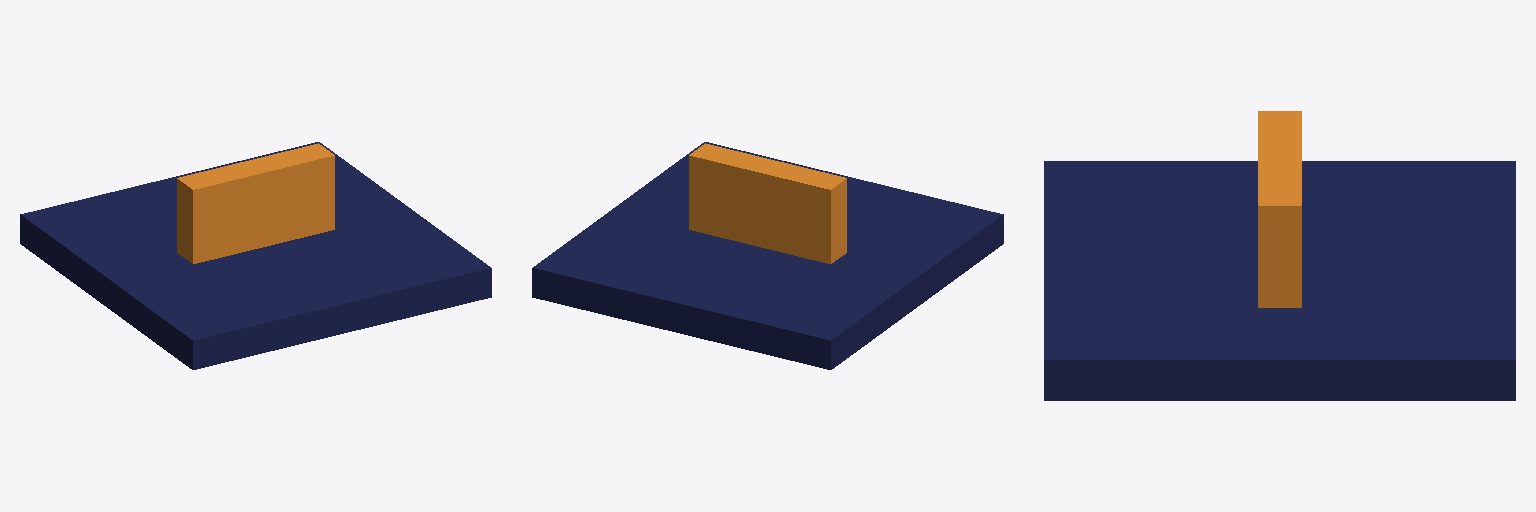
URDF robot description (bowl.urdf):
<?xml version="0.0" ?>
<robot name="bowl.urdf">

  <material name="yellow">
    <color rgba="1 1 0.4 1"/>
  </material>
  <material name="red">
    <color rgba="1 0 0 1"/>
  </material>
  <material name="blue">
    <color rgba=".17 .20 .38 1"/>
  </material>
  <material name="teal">
    <color rgba="0 .5 .5 1"/>
  </material>
  <material name="orange">
    <color rgba=".93 .6 .23 1"/>
  </material>

  <!-- <link name="world"/> -->


  <link name="lid">
    <lateral_friction value="1.0"/>
    <rolling_friction value="0.0"/>
    <contact_cfm value="0.0"/>
    <contact_erp value="1.0"/>
    <inertial>
      <origin rpy="0 0 0" xyz="0.0 0.0 -0.35"/>
       <mass value="1"/>
       <inertia ixx="1" ixy="0" ixz="0" iyy="1" iyz="0" izz="1"/>
    </inertial>
    <visual>
      <origin rpy="0 0 0" xyz="0 0 0"/>
      <geometry>
        <!--<cylinder radius="0.7" length=".05"/>-->
          <box size="1.05 1.05 .1"/>
      </geometry>
       <material name="blue"/>
    </visual>
    <collision>
      <origin rpy="0 0 0" xyz="0 0 0"/>
      <geometry>
          <!--<cylinder radius="0.7" length=".05"/>-->
          <box size="1.05 1.05 .1"/>

      </geometry>
    </collision>
  </link>

  <link name="handle">
    <lateral_friction value="1.0"/>
    <rolling_friction value="0.0"/>
    <contact_cfm value="0.0"/>
    <contact_erp value="1.0"/>
    <inertial>
      <origin rpy="0 0 0" xyz="0.0 0.0 0.0"/>
       <mass value="1"/>
       <inertia ixx="1" ixy="0" ixz="0" iyy="1" iyz="0" izz="1"/>
    </inertial>
    <visual>
      <origin rpy="0 0 0" xyz="0 0 0"/>
      <geometry>
        <box size="0.5 0.1 .3"/>
      </geometry>
       <material name="orange"/>
    </visual>
    <collision>
      <origin rpy="0 0 0" xyz="0 0 0"/>
      <geometry>
        <box size="0.5 0.1 .3"/>
      </geometry>
    </collision>
  </link>

  <joint name="handle_joint" type="fixed">
    <origin rpy="0 0 0" xyz="0 0 0.15"/>
    <parent link="lid"/>
    <child link="handle"/>
  </joint>

</robot>

--- Facts derived from the render (not from the file) ---
3 views of the same robot in one strip: view 1: azimuth 30°, elevation 25°; view 2: azimuth 150°, elevation 25°; view 3: azimuth 270°, elevation 25° (orthographic).
Model bowl.urdf with 2 links and 1 joints (1 fixed), rooted at lid, posed every joint at zero.
Visible links, largest first — view 1: lid, handle; view 2: lid, handle; view 3: lid, handle.
Link boxes in pixels (x1,y1,x2,y2): lid: (20,142,491,369); handle: (177,143,334,263); lid: (532,142,1003,369); handle: (689,143,846,263); lid: (1044,161,1515,400); handle: (1258,111,1301,307).
Size in the robot's own frame: 1.05 by 1.05 by 0.35 metres.
Geometry: primitives only (box / cylinder / sphere), no mesh files.